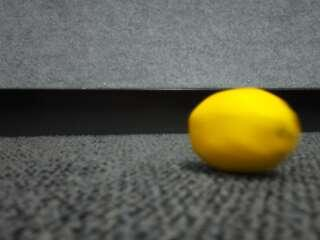lemon: (190, 89, 299, 174)
